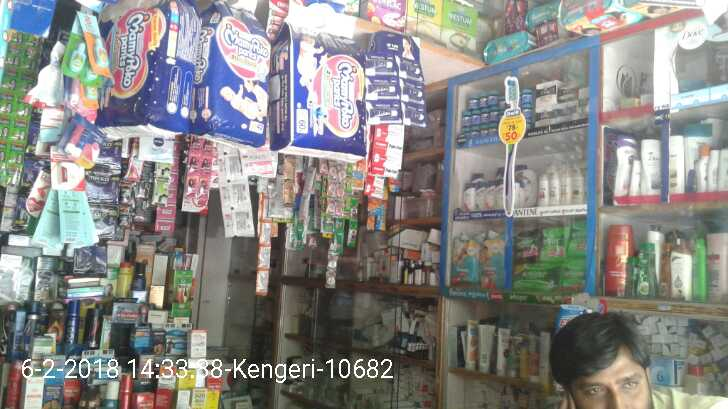beauty: (529, 101, 590, 123), (558, 164, 586, 208), (535, 78, 558, 105), (459, 177, 475, 214), (557, 82, 587, 100), (548, 170, 558, 207), (487, 178, 497, 213), (538, 173, 548, 205), (477, 179, 483, 213)
pharmacy: (511, 260, 561, 292), (447, 239, 479, 284), (479, 233, 504, 286), (461, 110, 502, 139), (540, 223, 567, 258), (561, 254, 582, 294), (514, 228, 538, 257), (466, 91, 500, 106)
